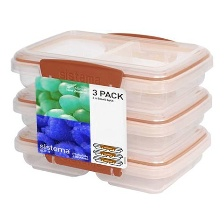plastic_box: (4, 23, 217, 115), (8, 114, 215, 199), (7, 77, 215, 155)
